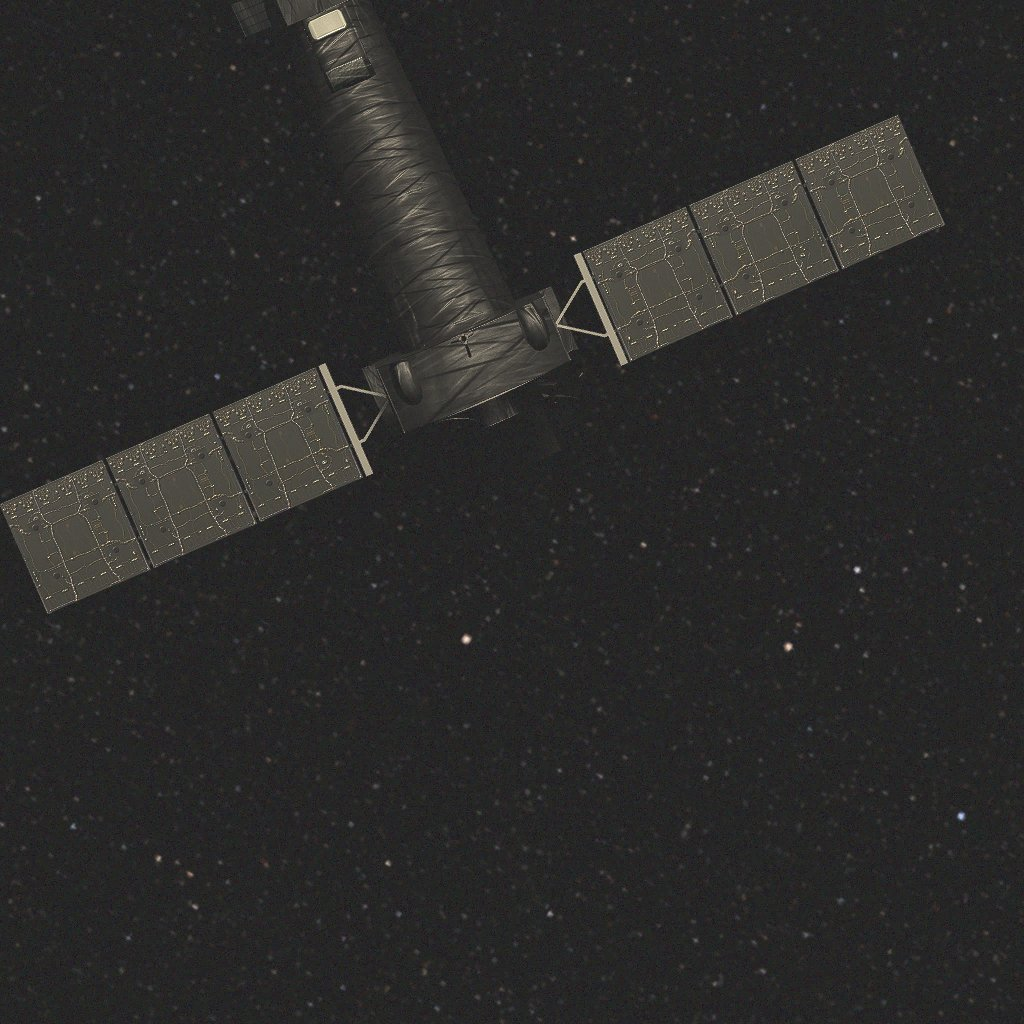xmm_newton: (0, 0, 945, 614)
